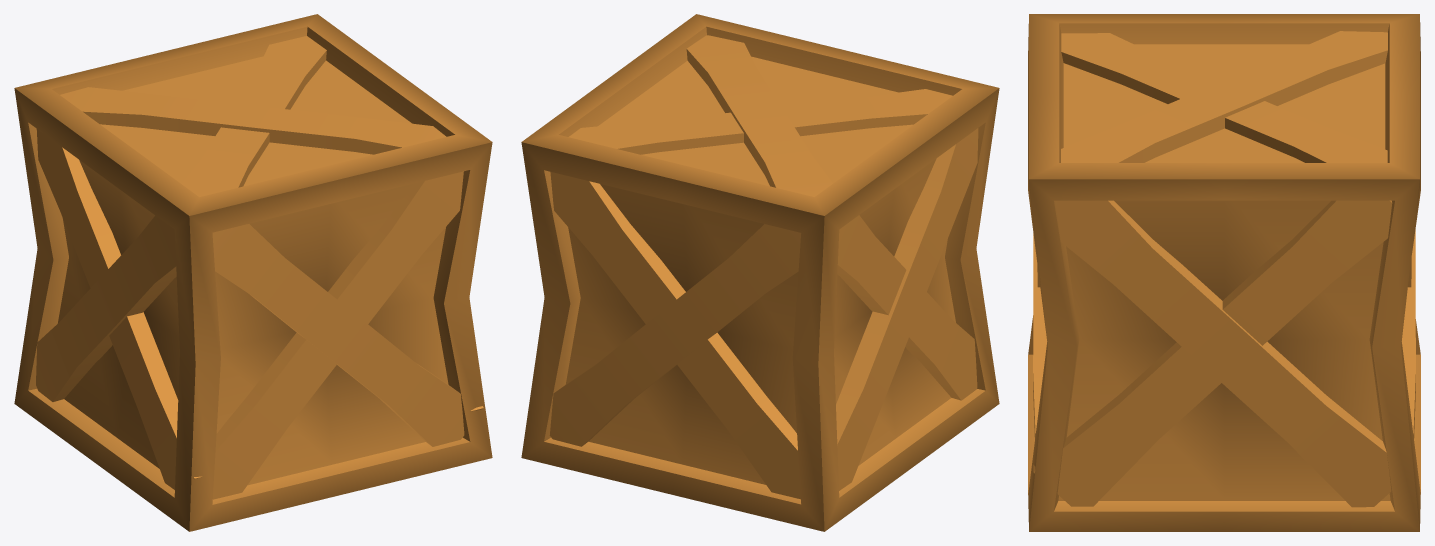
File: Obstacle.fbx
3 views of the same model, side by side, from view 1: azimuth 30°, elevation 25°; view 2: azimuth 150°, elevation 25°; view 3: azimuth 270°, elevation 25° (orthographic). The views are drawn at different scales.
Parts seen in each view (by area): view 1: Obstacle; view 2: Obstacle; view 3: Obstacle.
Part boxes in pixels (x1,y1,x2,y2): Obstacle: (14,14,492,531); Obstacle: (521,14,999,531); Obstacle: (1028,14,1420,531).
Size of the model in its own units: 2.07 by 2.1 by 2.07.
